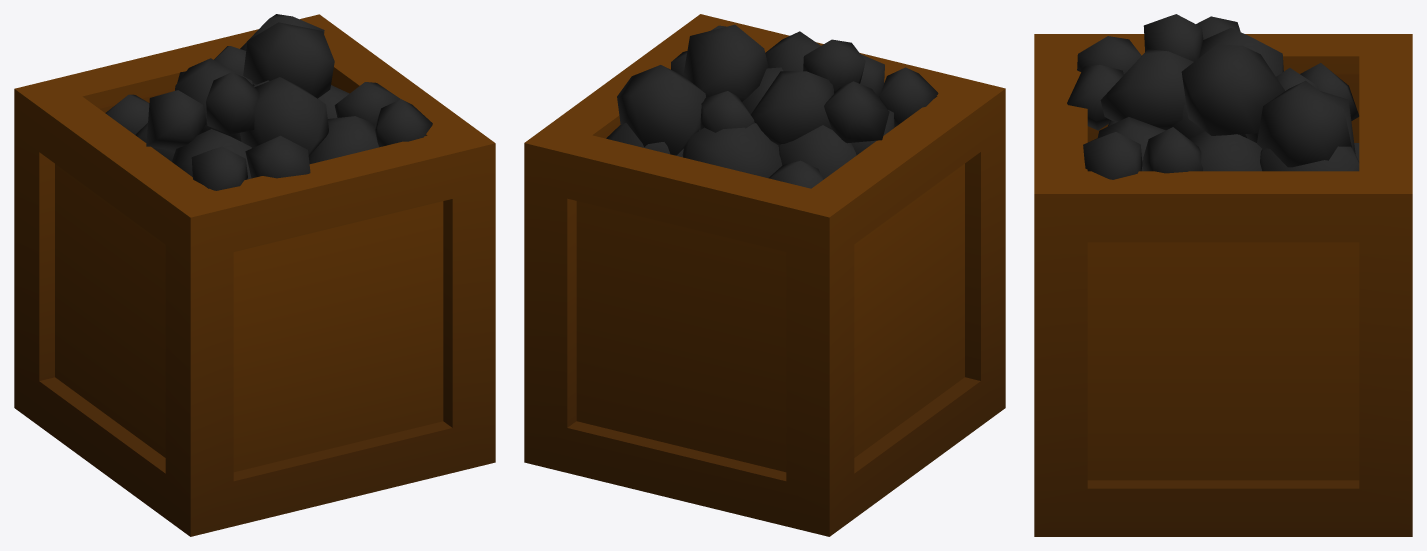
File: Coal_2.glb
The picture shows the model from 3 angles, left to right: view 1: azimuth 30°, elevation 25°; view 2: azimuth 150°, elevation 25°; view 3: azimuth 270°, elevation 25°; orthographic projection. The views are drawn at different scales.
Parts seen in each view (by area): view 1: Coal_2; view 2: Coal_2; view 3: Coal_2.
Boxes of the visible parts, box(x1,y1,x2,y2) form: Coal_2: box(14, 14, 495, 536); Coal_2: box(524, 14, 1005, 536); Coal_2: box(1034, 14, 1412, 536).
Size of the model in its own units: 1 by 1.25 by 1.
